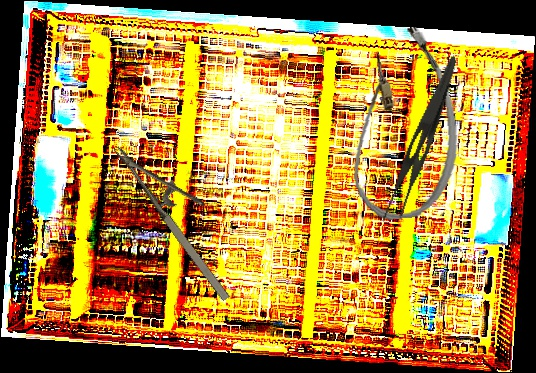Cannula: (338, 23, 466, 224)
Dressing Forceps: (378, 49, 460, 230)
Needle Holder: (113, 124, 256, 305)
